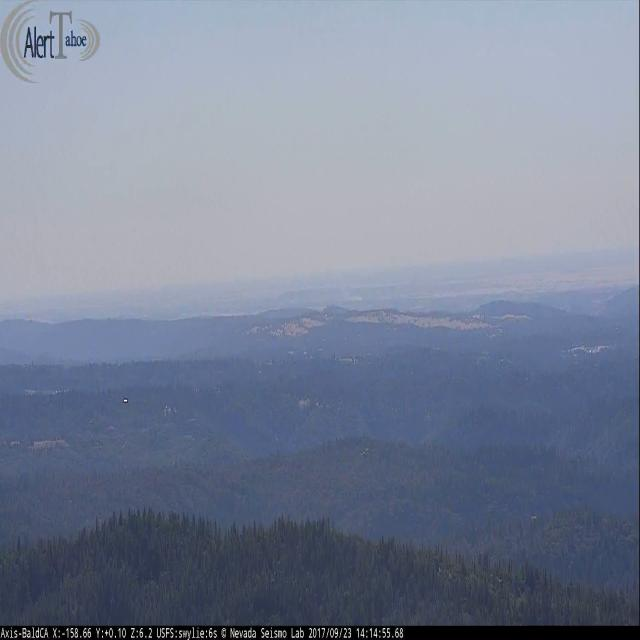smoke: (340, 284, 362, 301)
